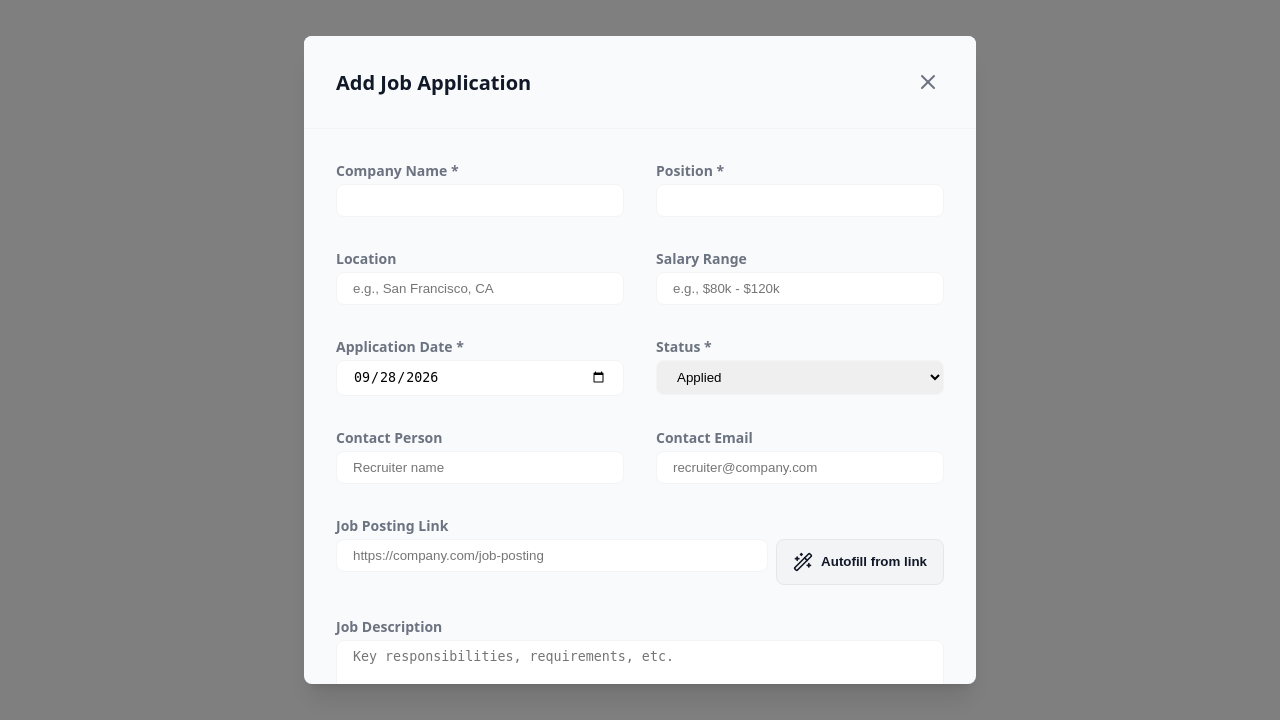
Scenario: JobApplicationForm autofill › shows a "blocked" notice when the site refuses or times out the request
Type "https://example.com/jobs/123" into the field with placeholder "https://company.com/job-posting" at (552, 555), box 336,538 -> 768,572
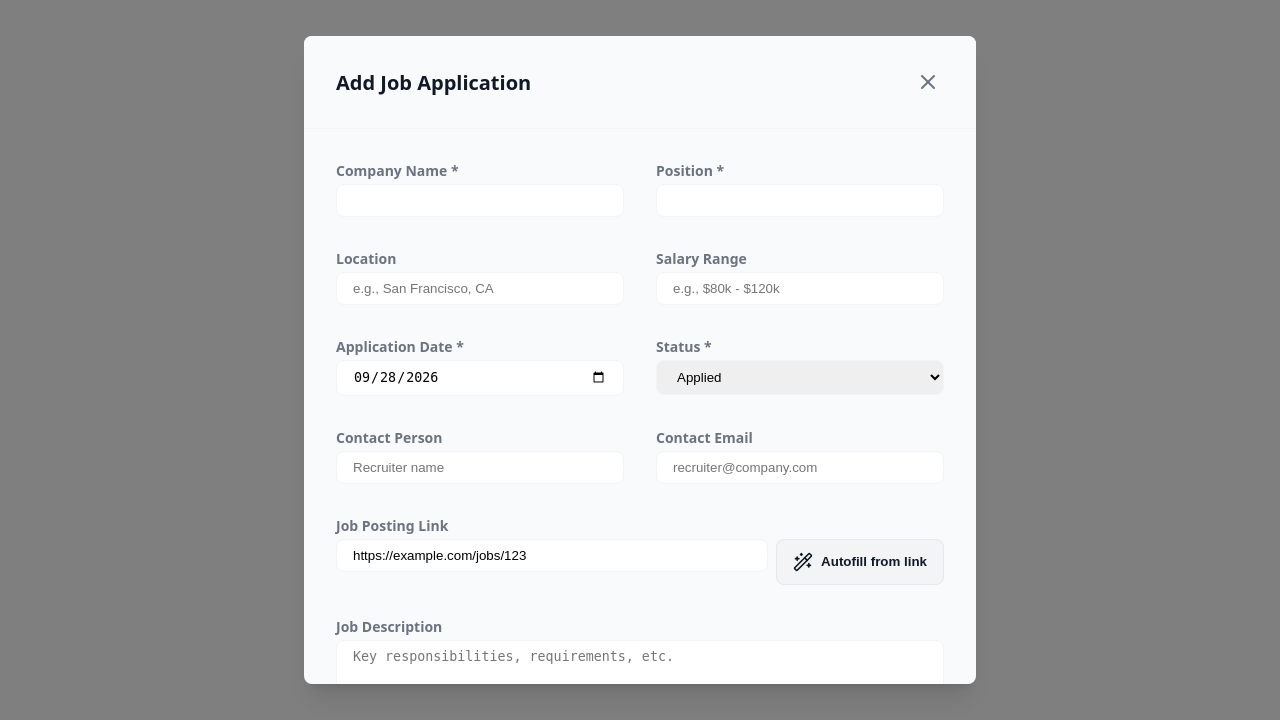
Click the button "Autofill from link" at (860, 562), box 776,538 -> 944,584
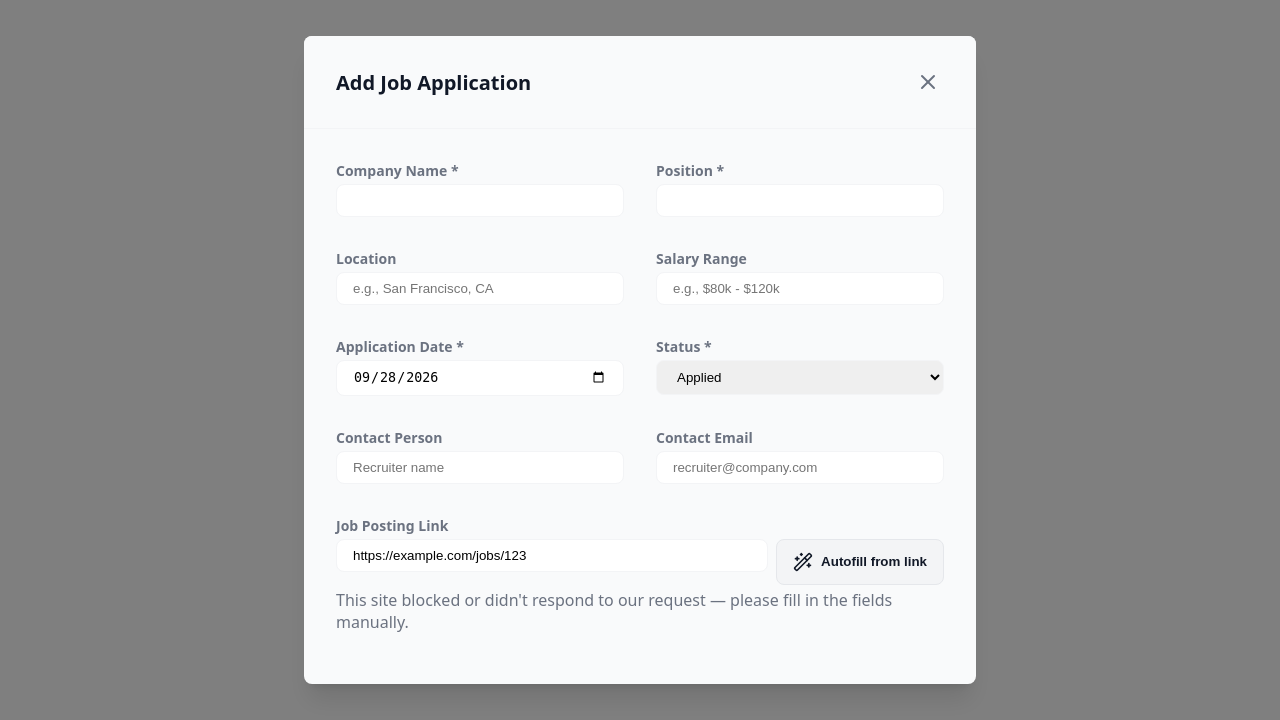
Now the text "blocked or didn't respond to our request" is shown, box 336,588 -> 892,632
